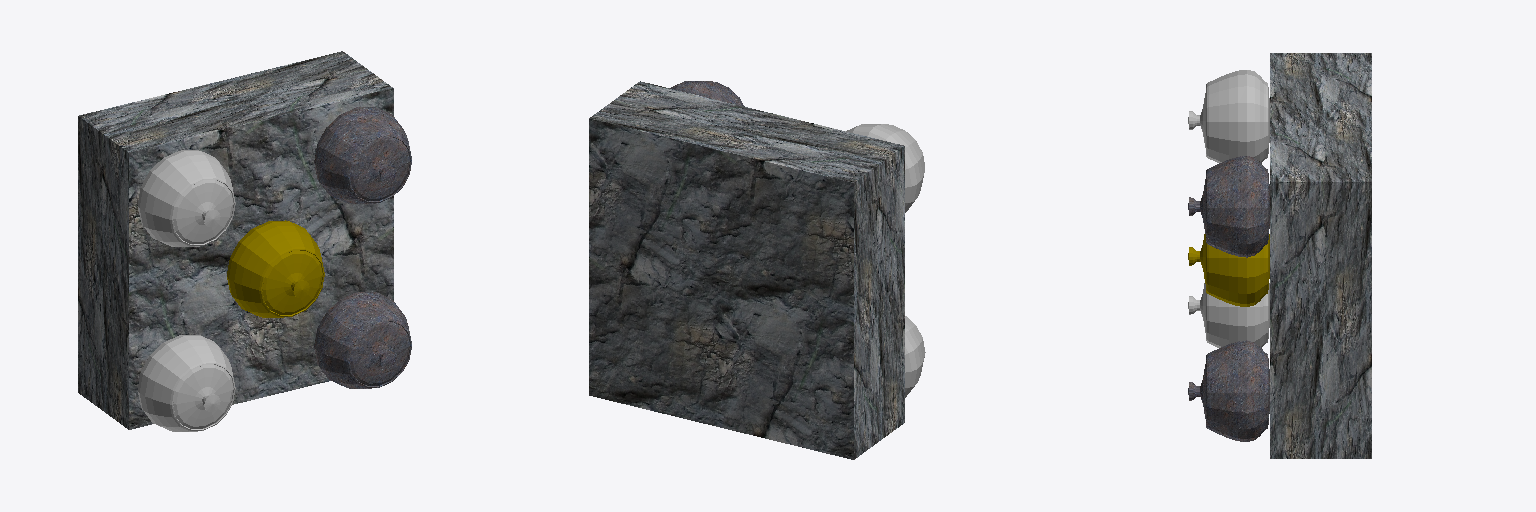
3 views of the same model, side by side, from view 1: azimuth 30°, elevation 25°; view 2: azimuth 150°, elevation 25°; view 3: azimuth 270°, elevation 25° (orthographic).
Parts seen in each view (by area): view 1: DiffBump; view 2: DiffBump; view 3: DiffBump.
Part boxes in pixels (left/top/right/bottom): DiffBump: left=78, top=51, right=411, bottom=431; DiffBump: left=589, top=81, right=925, bottom=459; DiffBump: left=1188, top=53, right=1371, bottom=458.
Size of the model in its own units: 3.01 by 3 by 1.8.
6 materials, 2 textured.